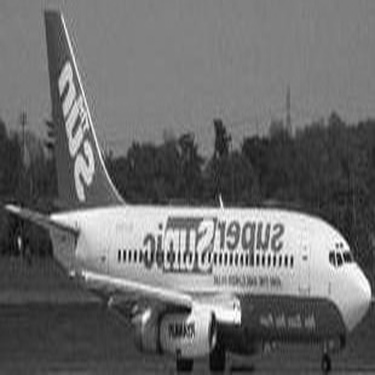airplane: (5, 3, 372, 373)
